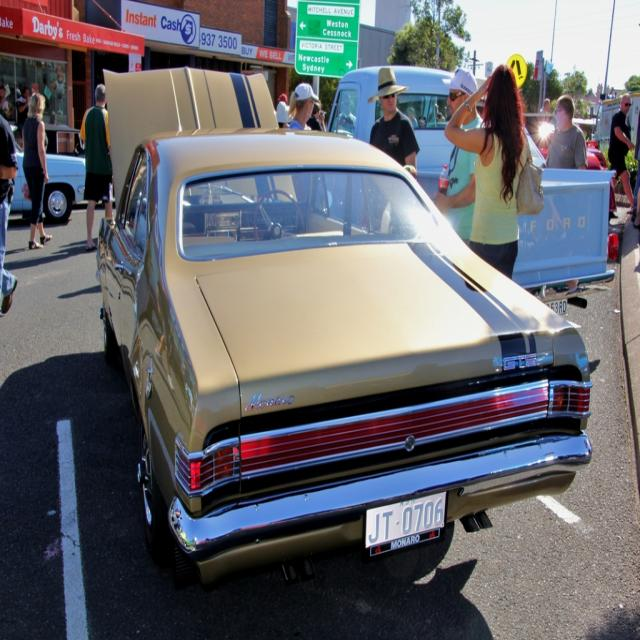car: (99, 114, 604, 581)
